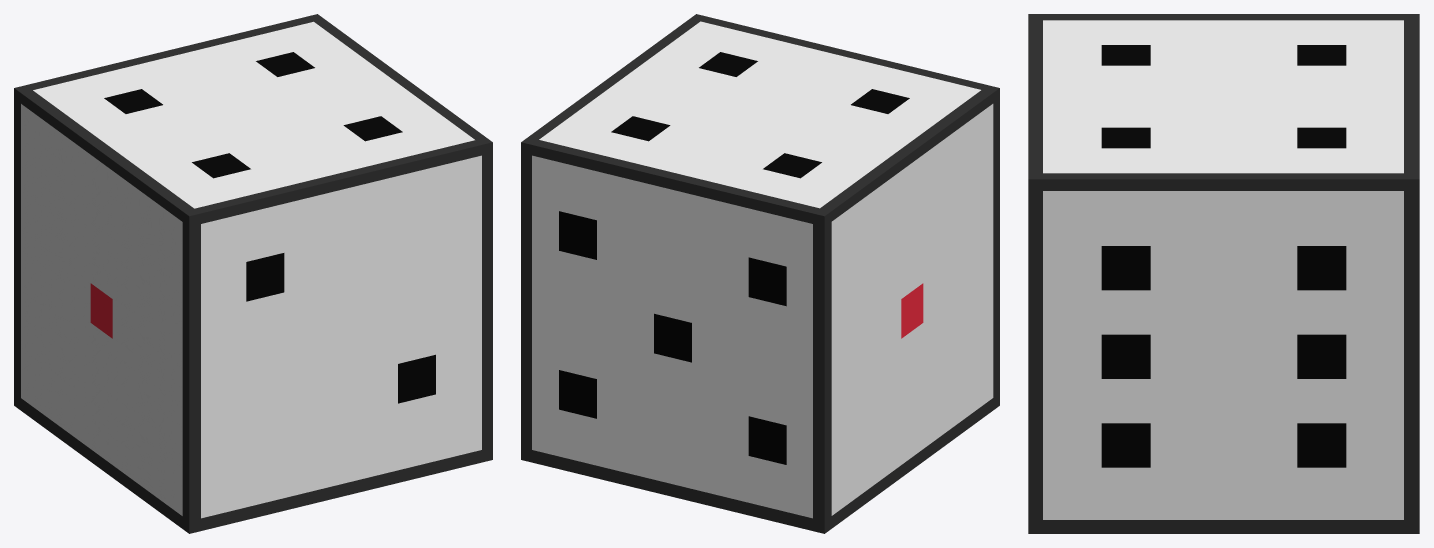
File: dice.fbx
The picture shows the model from 3 angles, left to right: view 1: azimuth 30°, elevation 25°; view 2: azimuth 150°, elevation 25°; view 3: azimuth 270°, elevation 25°; orthographic projection. The views are drawn at different scales.
Visible parts, largest first — view 1: Box002; view 2: Box002; view 3: Box002.
Part boxes in pixels (box(x1,y1,x2,y2)): Box002: box(14, 14, 492, 533); Box002: box(521, 14, 999, 533); Box002: box(1028, 14, 1419, 533).
Bounding box in the file's own units: 15 × 15 × 15.
Materials: 1 (1 with a texture image).
